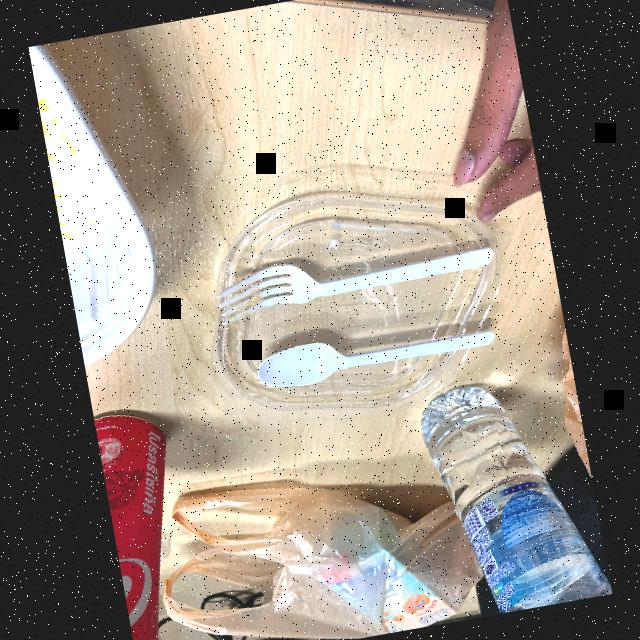plastic_spoon: (190, 221, 506, 332), (247, 303, 505, 396)
